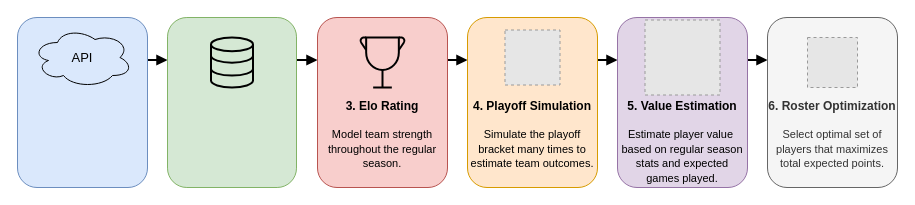
The diagram is 915 pixels wide and 205 high, and some of its shapes have lost their labels. Grey dashed boxes stand in for pictures. The shapes that lost their labels are listed below. From the top down, each one's box as (x1, y1, x2, y2) in pixels, then its label:
(16, 16, 148, 188): 1. Data Collection Fetch data from the NHL API and store locally.
(166, 16, 296, 188): 2. Data Processing Clean, transform, and structure data.
